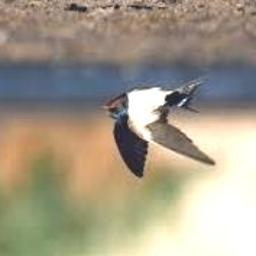Swallow: (103, 76, 216, 179)
